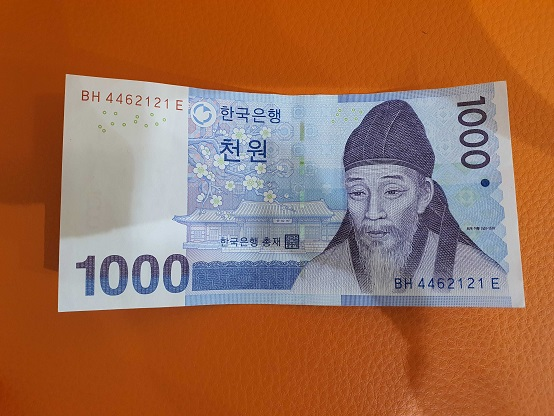1000won: (56, 72, 526, 313)
